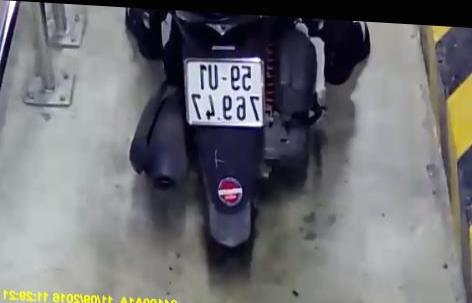License_Plate: (178, 49, 272, 137)
